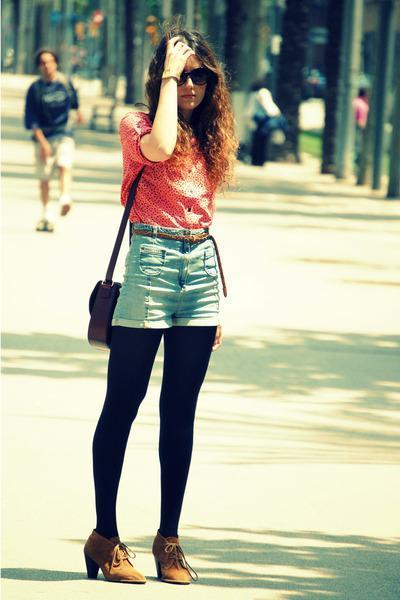bag: (88, 180, 155, 347)
shirt: (116, 107, 212, 228)
shoe: (84, 516, 203, 584)
shorts: (111, 204, 226, 327)
sunglass: (180, 60, 217, 90)
